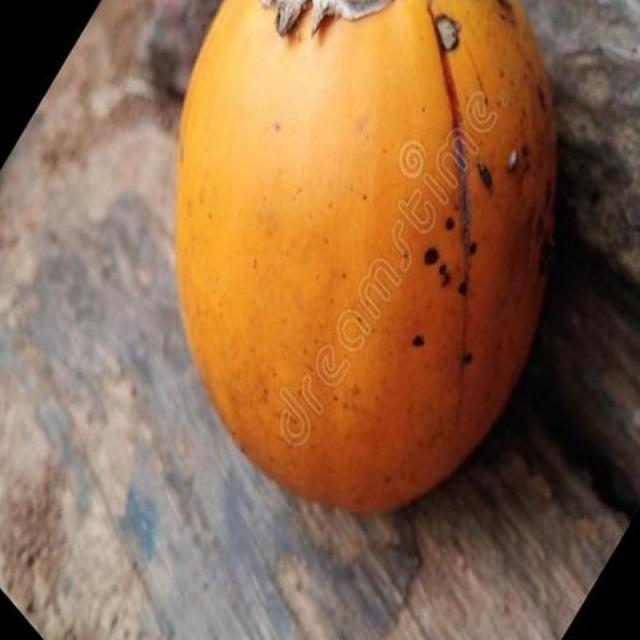good: (174, 0, 560, 519)
